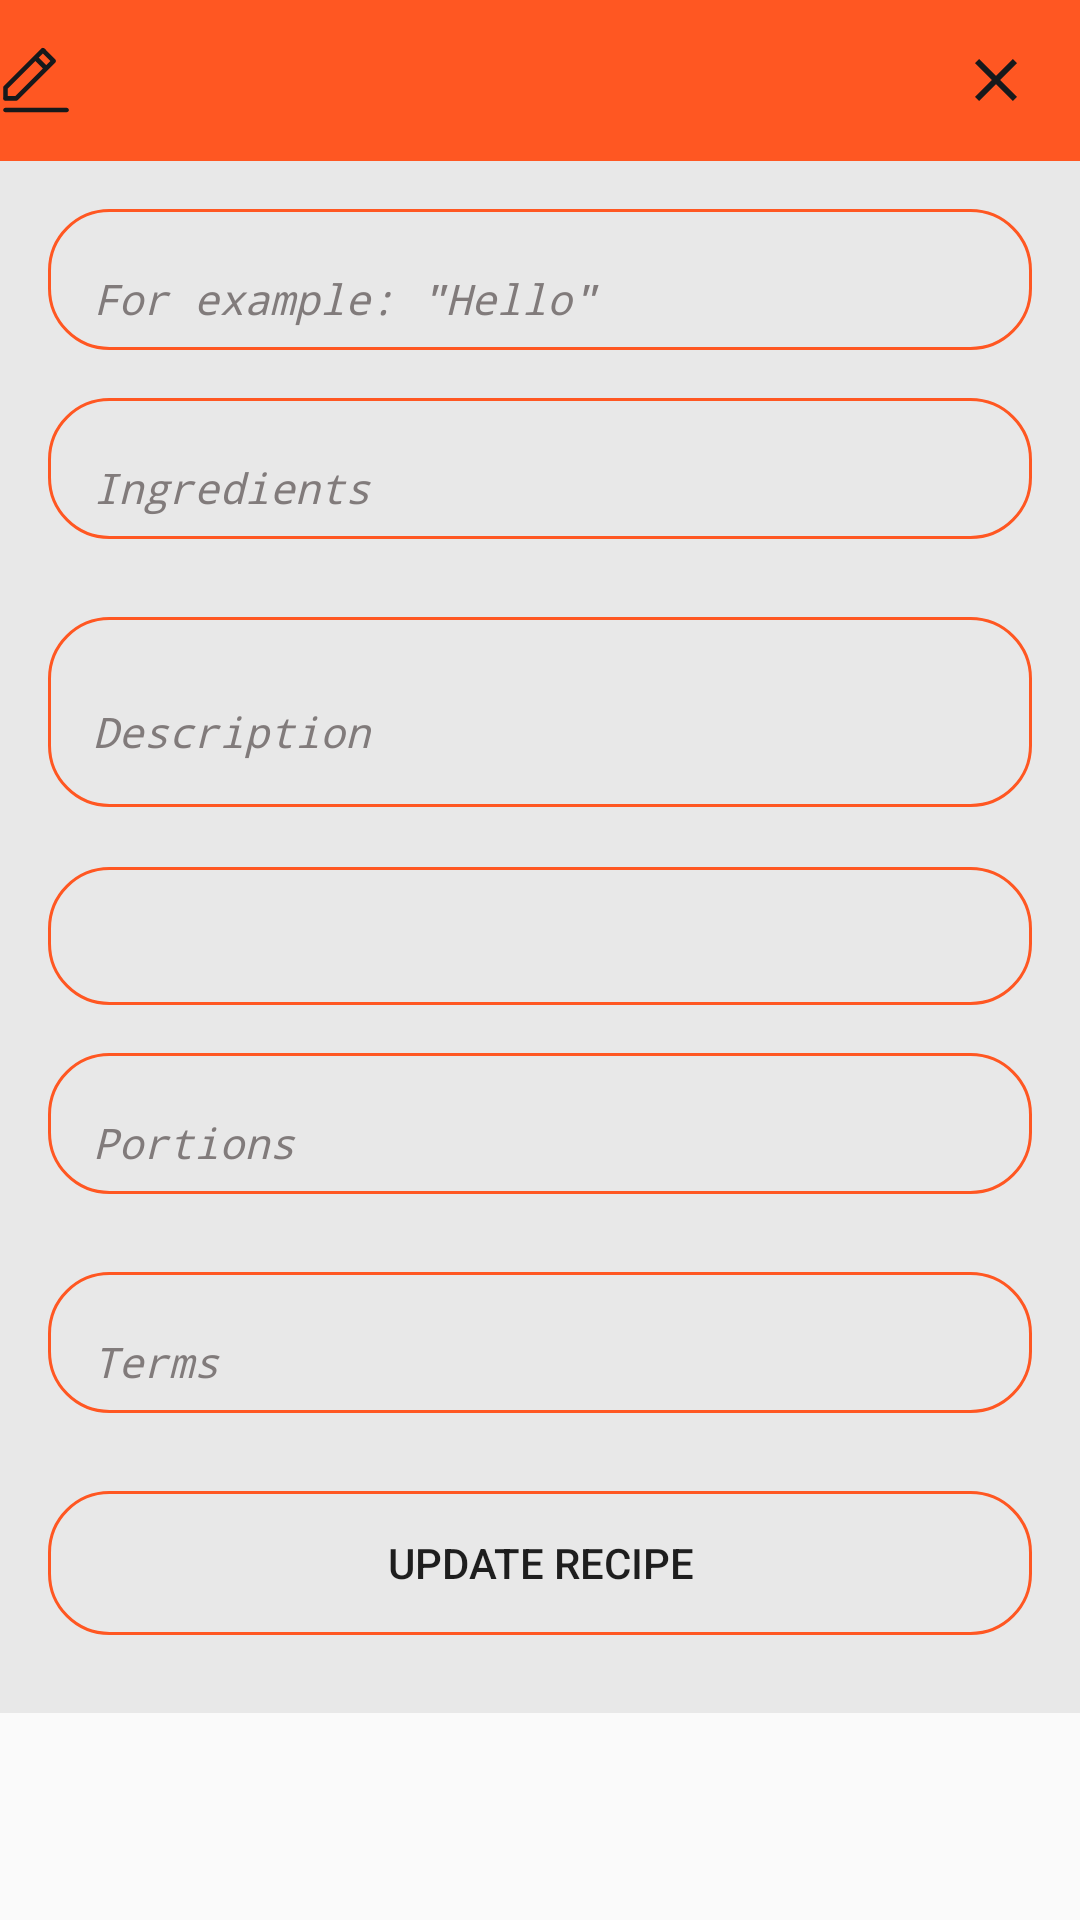

Icons on this 1080px×1920px Android screen, each with the point to tap as (x,y):
close: (996,80)
